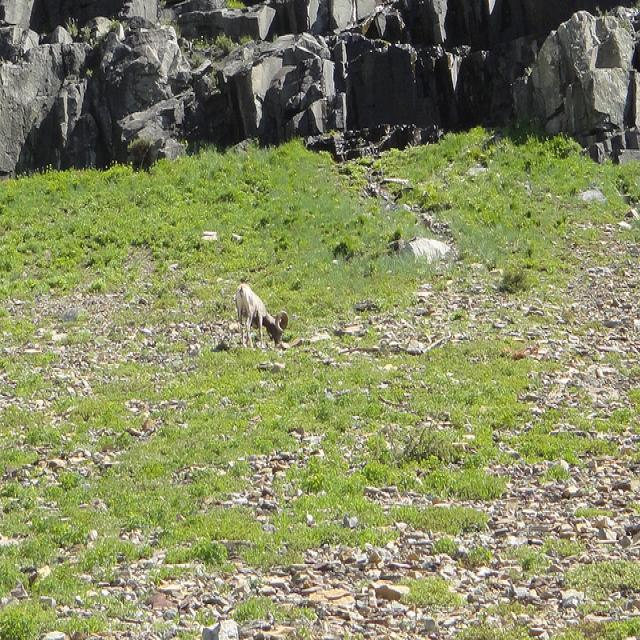cow: (386, 235, 450, 260)
